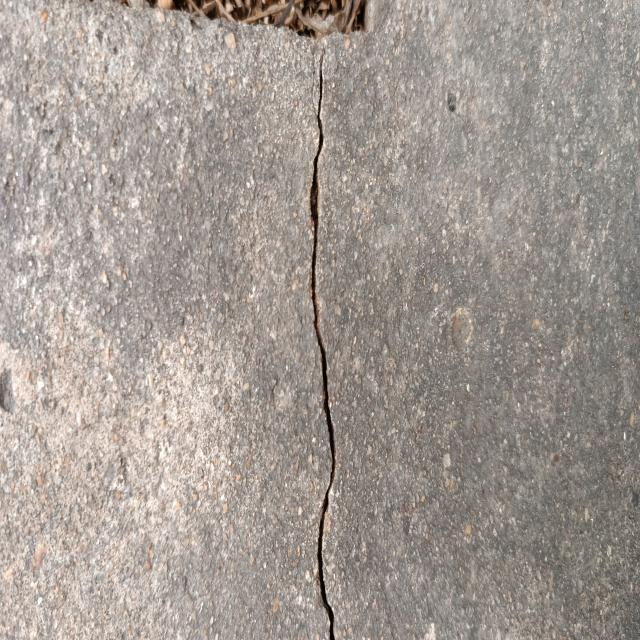vertical cracks: (310, 56, 336, 640)
